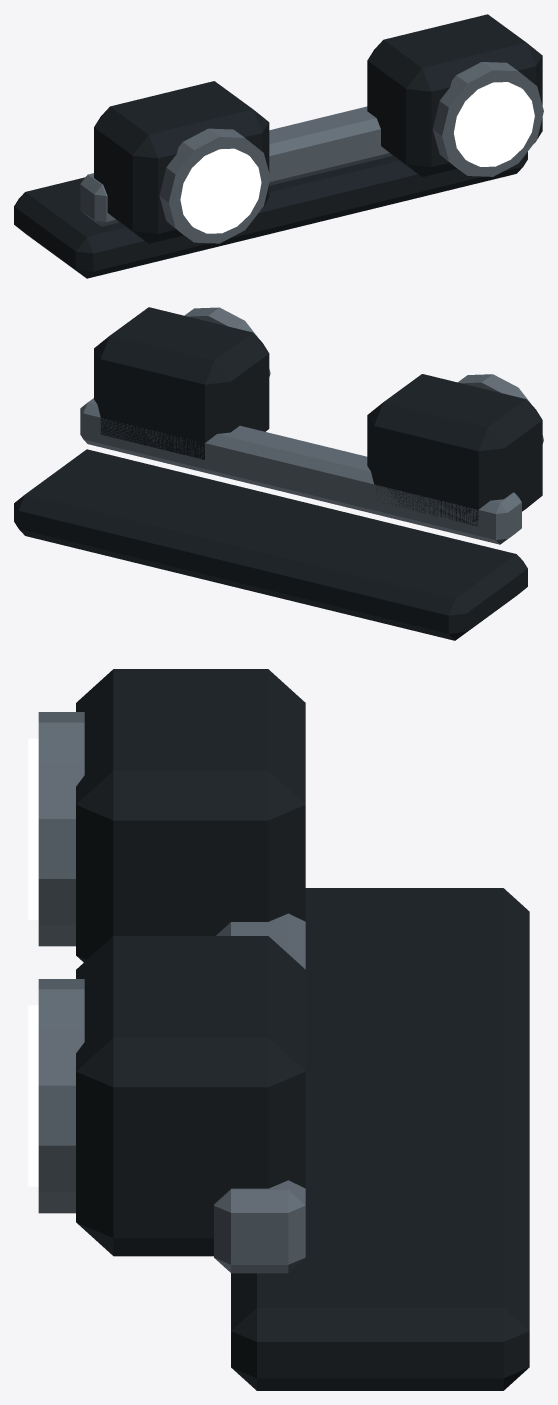
Rendered from RoofHeadlights.glb.
3 views of the same model, one above another, from view 1: azimuth 30°, elevation 25°; view 2: azimuth 150°, elevation 25°; view 3: azimuth 270°, elevation 25° (orthographic). The views are drawn at different scales.
Visible parts, largest first — view 1: FTF_Tool_VehicleRoofDualHeadlights_Black_1_9m_Static, Glow_Right, Glow_Left; view 2: FTF_Tool_VehicleRoofDualHeadlights_Black_1_9m_Static; view 3: FTF_Tool_VehicleRoofDualHeadlights_Black_1_9m_Static, Glow_Left, Glow_Right.
Boxes of the visible parts, x1,y1,x2,y2 form: FTF_Tool_VehicleRoofDualHeadlights_Black_1_9m_Static: (14,14,543,278); Glow_Right: (454,82,534,166); Glow_Left: (180,148,261,233); FTF_Tool_VehicleRoofDualHeadlights_Black_1_9m_Static: (14,307,543,640); FTF_Tool_VehicleRoofDualHeadlights_Black_1_9m_Static: (38,669,529,1390); Glow_Left: (28,738,38,919); Glow_Right: (28,1005,38,1186).
Bounding box in the file's own units: 1.82 × 0.63 × 0.873.
